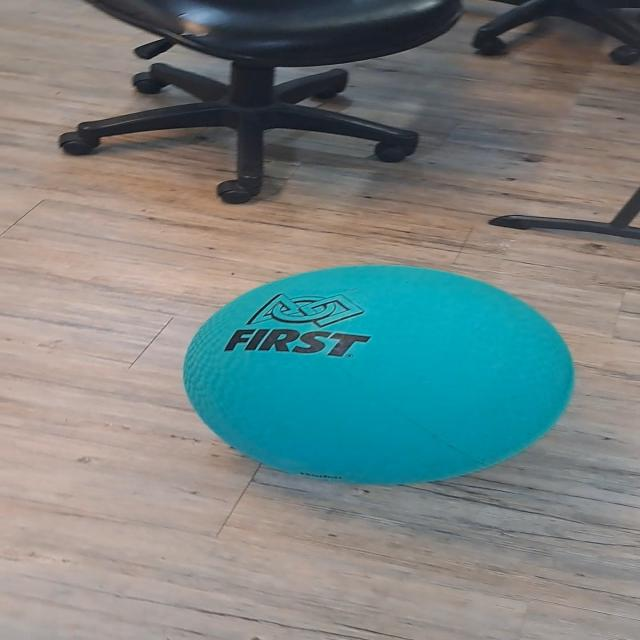ALGAE: (180, 262, 576, 486)
